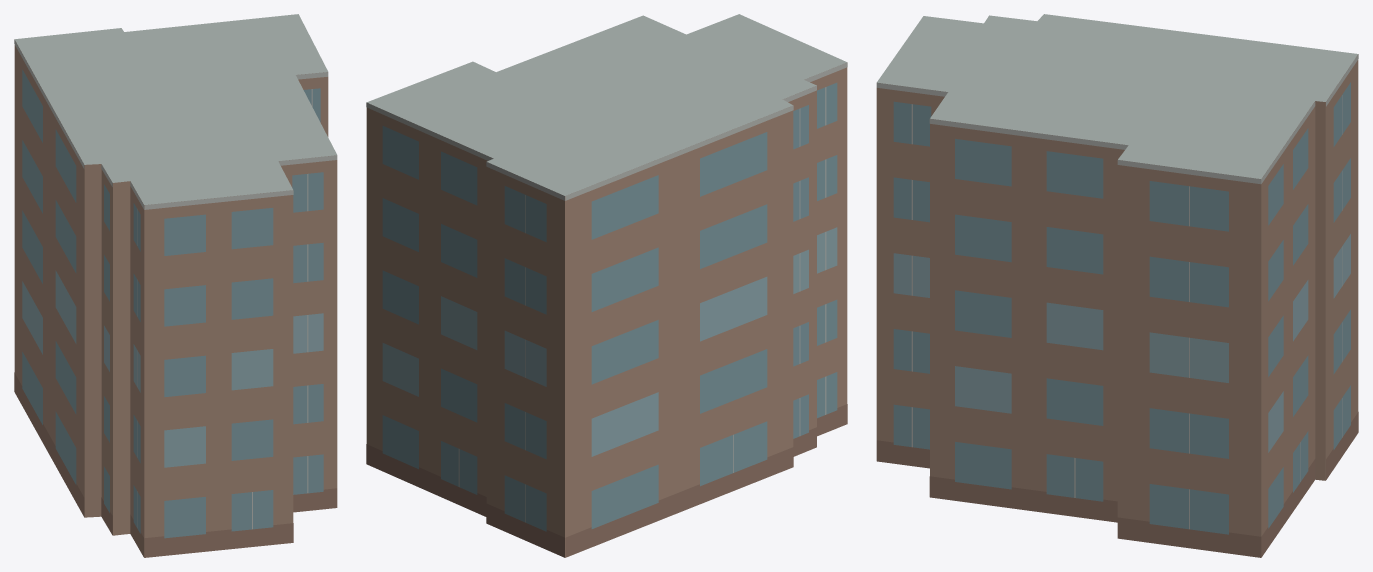
File: survey-upis-32485210.glb
3 renders of one model, left to right at view 1: azimuth 30°, elevation 25°; view 2: azimuth 150°, elevation 25°; view 3: azimuth 270°, elevation 25°, orthographic. The views are drawn at different scales.
Visible parts, largest first — view 1: survey-upis-32485210.tmp; view 2: survey-upis-32485210.tmp; view 3: survey-upis-32485210.tmp.
Boxes of the visible parts, bbox=[...] form: survey-upis-32485210.tmp: bbox=[14, 14, 337, 557]; survey-upis-32485210.tmp: bbox=[366, 14, 847, 557]; survey-upis-32485210.tmp: bbox=[876, 14, 1358, 557].
Size of the model in its own units: 16.84 by 18 by 20.76.
